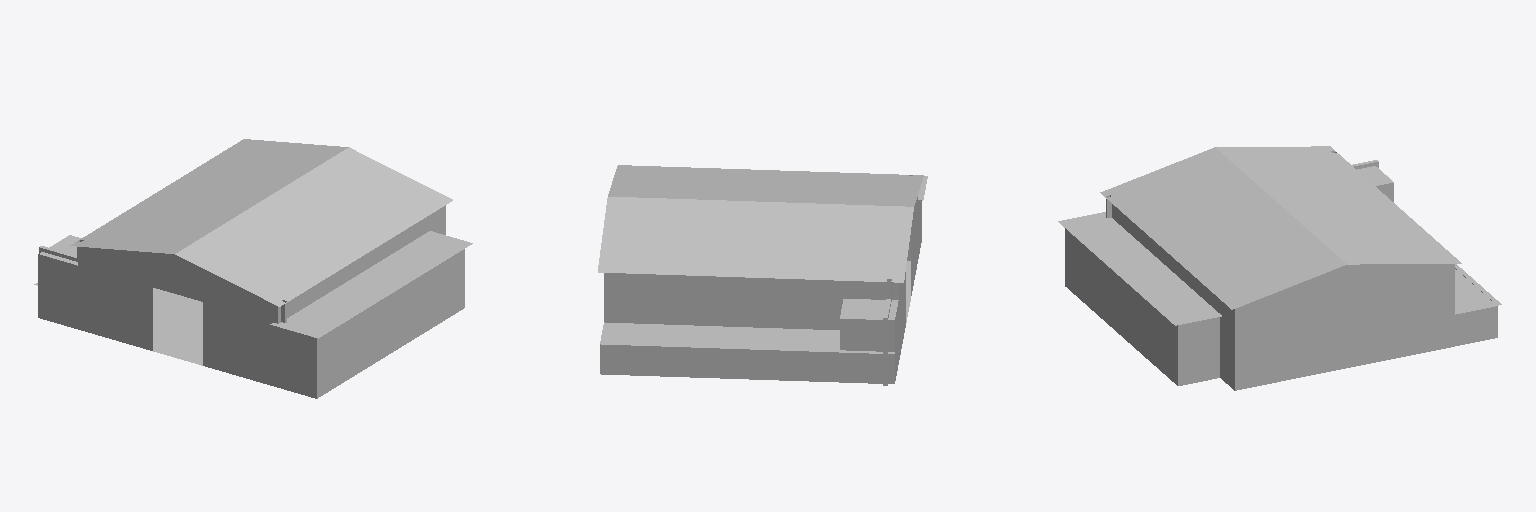
File: factory.obj
3 views of the same model, side by side, from view 1: azimuth 30°, elevation 25°; view 2: azimuth 150°, elevation 25°; view 3: azimuth 270°, elevation 25° (orthographic).
Parts seen in each view (by area): view 1: Layer0_001; view 2: Layer0_001; view 3: Layer0_001.
Boxes of the visible parts, x1,y1,x2,y2 form: Layer0_001: [34, 139, 472, 398]; Layer0_001: [598, 165, 927, 385]; Layer0_001: [1058, 146, 1501, 390].
Bounding box in the file's own units: 51.13 × 14.93 × 56.55.